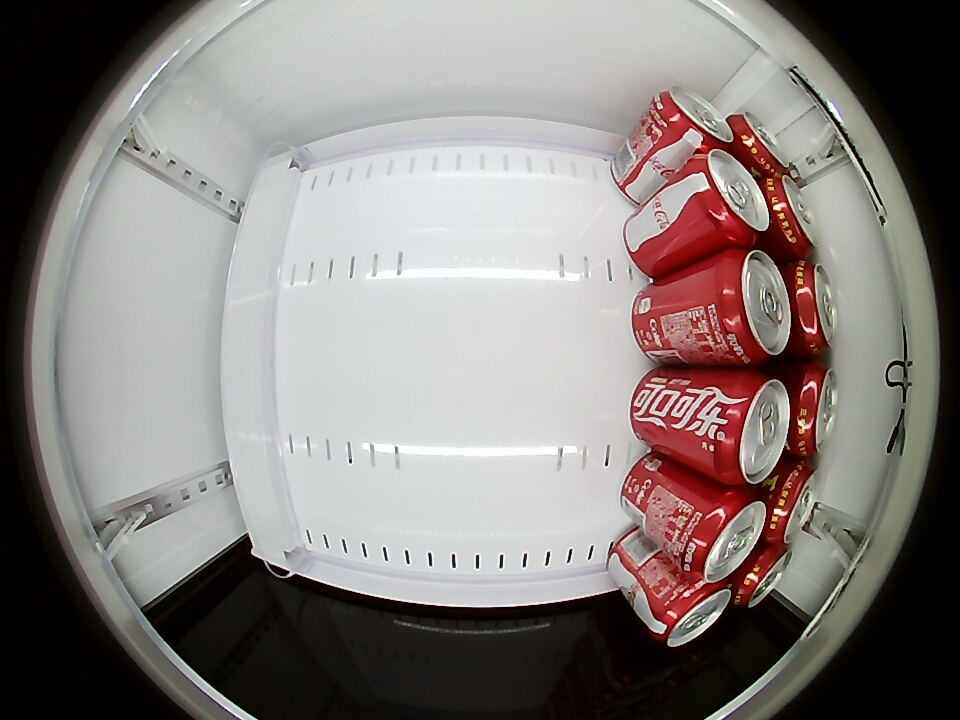kele: (711, 250, 791, 365), (709, 372, 789, 486), (686, 148, 770, 247), (680, 489, 766, 582), (649, 577, 732, 647), (651, 87, 734, 153)
wanglaoji-c: (763, 460, 821, 545), (787, 363, 839, 455), (788, 260, 838, 355), (765, 175, 817, 257), (730, 111, 791, 177), (734, 543, 792, 609)
